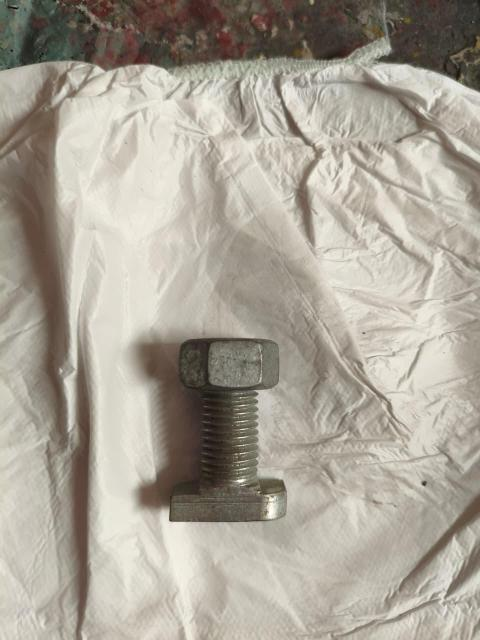Metal: (163, 333, 287, 525)
